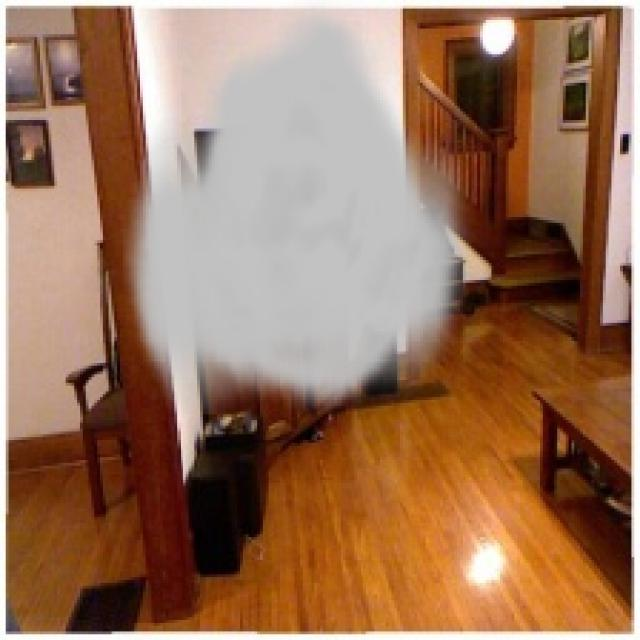smoke: (122, 0, 478, 415)
